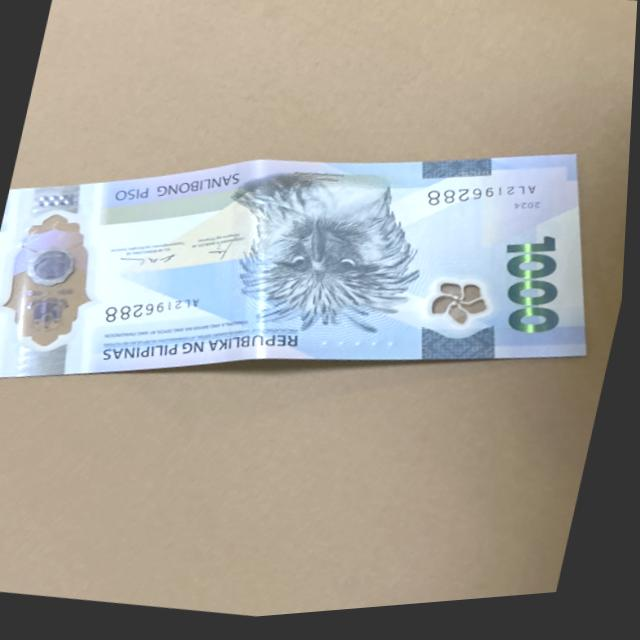clear_window: (0, 194, 112, 352)
eagle: (228, 164, 438, 353)
sampaguita: (427, 280, 504, 340)
